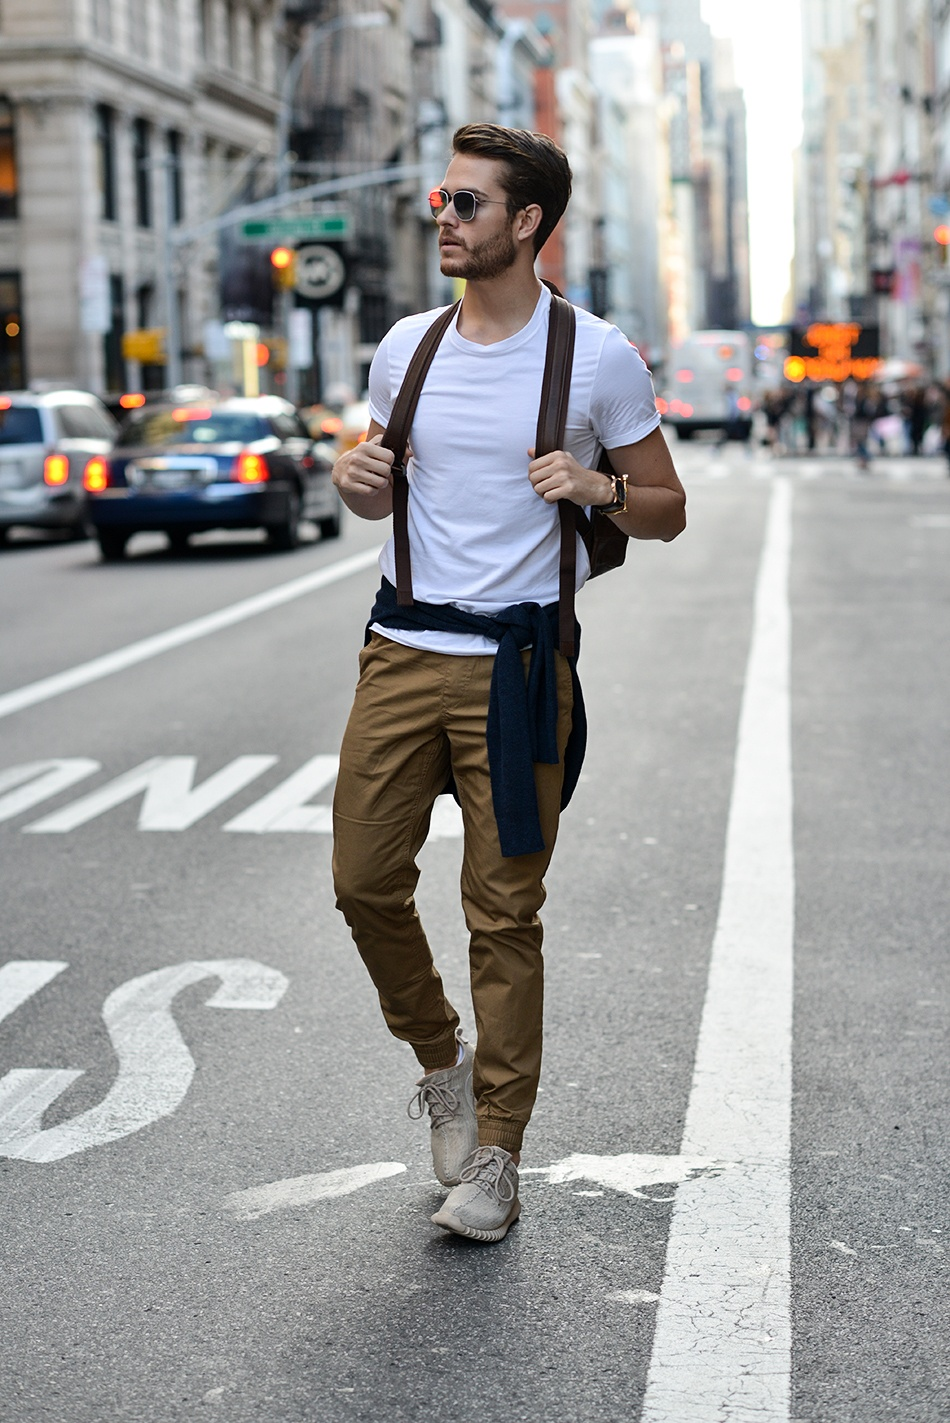NOTSAFE: (352, 117, 604, 657)
